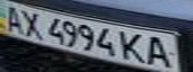4: (93, 26, 118, 57), (42, 16, 66, 44)
9: (57, 19, 81, 48), (75, 22, 96, 52)
A: (142, 34, 178, 70), (0, 2, 27, 34)
K: (118, 29, 148, 64)
X: (18, 8, 48, 38)
